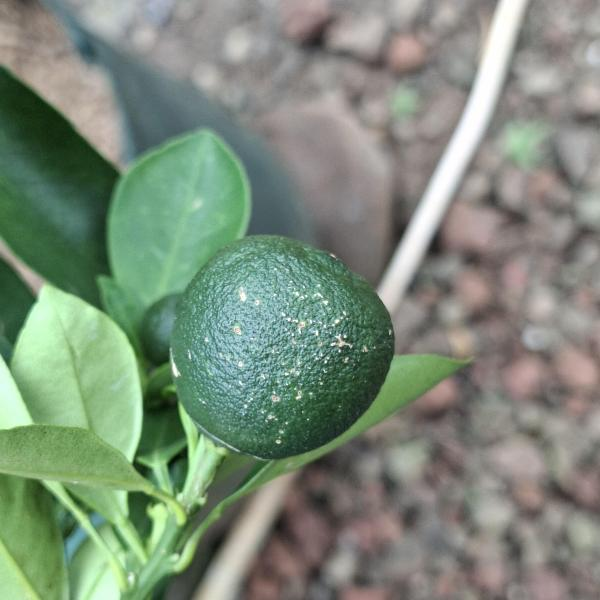Scab: (157, 220, 405, 477)
